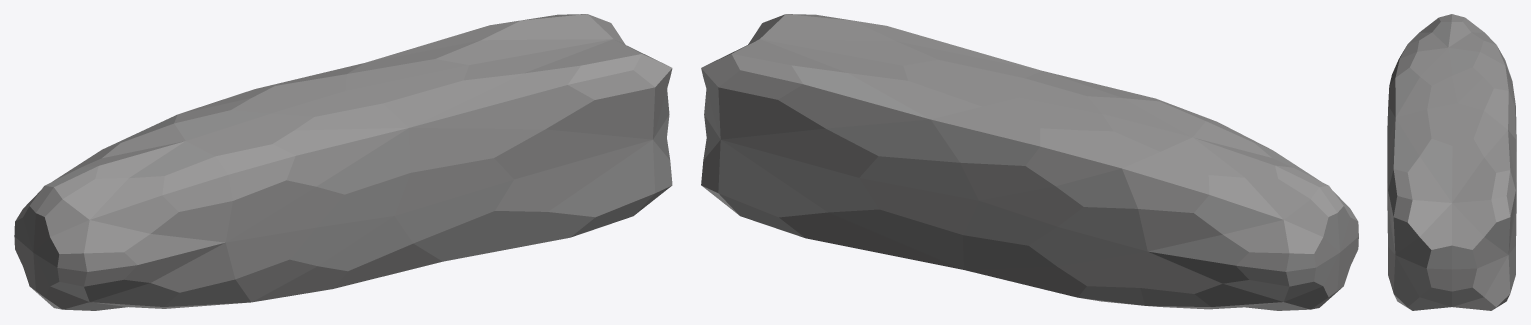
File: playerBullet.obj
The picture shows the model from 3 angles, left to right: view 1: azimuth 30°, elevation 25°; view 2: azimuth 150°, elevation 25°; view 3: azimuth 270°, elevation 25°; orthographic projection. The views are drawn at different scales.
Visible parts, largest first — view 1: Cube; view 2: Cube; view 3: Cube.
Part boxes in pixels (bbox=[...]): Cube: bbox=[14, 14, 672, 310]; Cube: bbox=[701, 14, 1358, 310]; Cube: bbox=[1387, 14, 1516, 310].
Bounding box in the file's own units: 4 × 1.03 × 1.
1 material, 1 textured.
